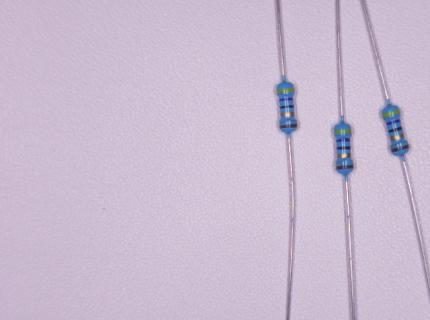Black band: (389, 127, 402, 133), (280, 105, 294, 109), (337, 146, 351, 150)
Brown band: (391, 144, 409, 152), (279, 124, 298, 129), (336, 164, 353, 169)
Gold band: (390, 134, 404, 141), (337, 153, 351, 158), (281, 112, 294, 117)
Violet band: (387, 119, 400, 126), (279, 98, 293, 102), (336, 138, 350, 142)
Yellow band: (383, 110, 400, 118), (277, 88, 295, 93), (334, 129, 351, 134)
